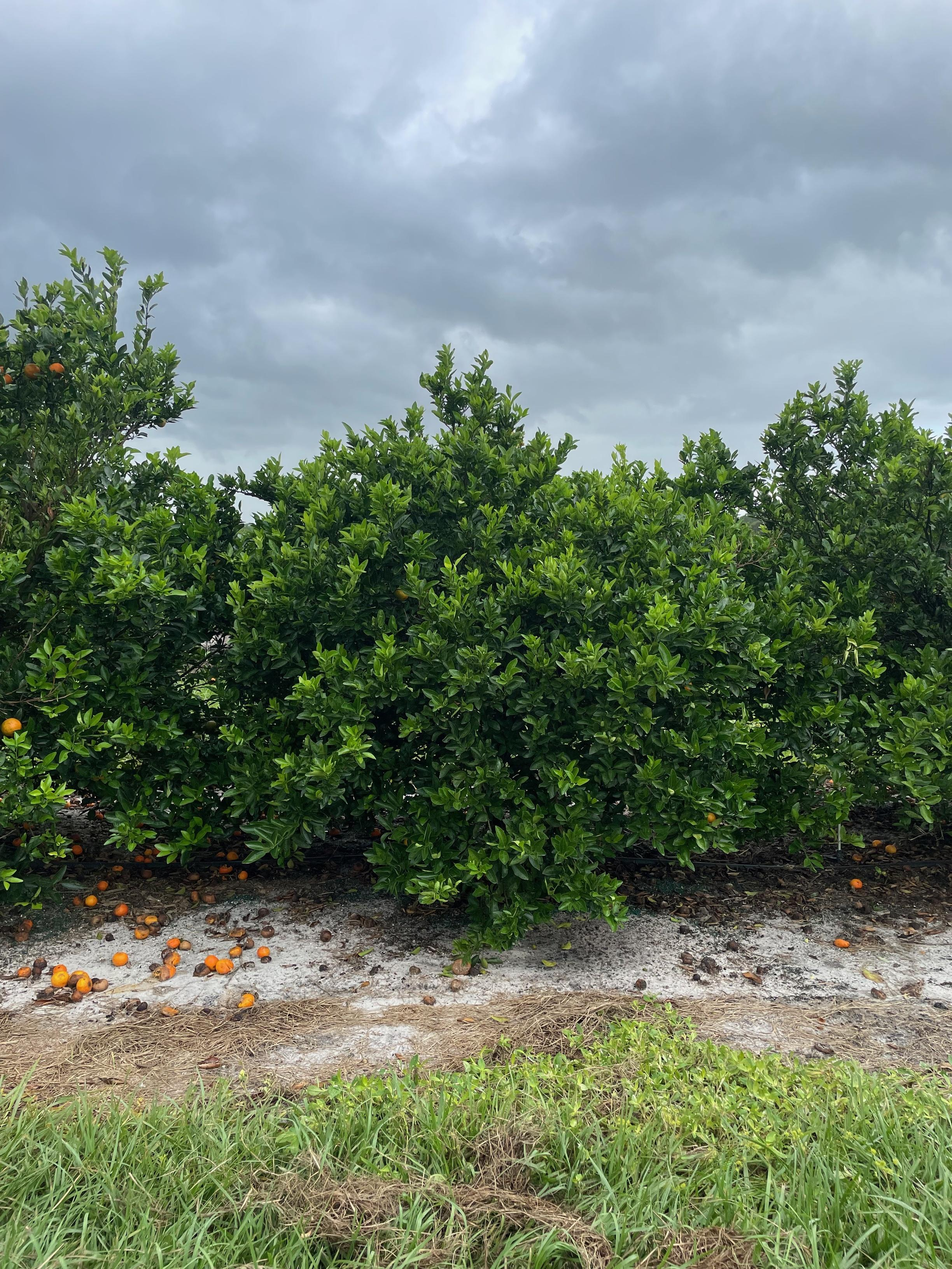fruit_on_ground: (0, 715, 23, 739), (392, 583, 412, 602), (23, 361, 42, 381), (47, 359, 66, 376), (0, 371, 15, 387), (703, 811, 718, 825), (204, 718, 218, 732)
fruit_on_tree: (68, 968, 91, 988), (50, 968, 70, 991), (450, 957, 472, 976), (75, 976, 93, 995), (237, 991, 256, 1009), (152, 966, 172, 982), (162, 951, 181, 967), (91, 977, 109, 993), (216, 959, 234, 974), (203, 953, 220, 968), (113, 901, 130, 916), (112, 951, 129, 966), (50, 963, 69, 976), (133, 925, 149, 940), (13, 930, 30, 944), (28, 963, 44, 977), (834, 935, 850, 949), (318, 928, 333, 942), (16, 965, 32, 978), (70, 989, 85, 1002), (256, 945, 271, 958), (32, 957, 48, 969), (21, 916, 35, 929), (327, 825, 341, 838), (849, 876, 863, 889), (84, 893, 98, 906), (144, 914, 159, 926), (163, 964, 176, 977), (96, 878, 109, 891), (369, 826, 383, 838), (70, 843, 84, 855), (166, 936, 180, 948), (884, 842, 898, 854), (11, 835, 24, 847), (243, 937, 256, 949), (229, 945, 242, 957), (237, 869, 250, 881), (180, 937, 192, 950), (21, 820, 35, 831), (259, 926, 273, 937), (231, 927, 245, 938), (189, 889, 201, 901), (227, 848, 239, 860), (851, 851, 864, 862), (202, 892, 215, 903), (187, 871, 199, 882), (870, 837, 882, 848), (215, 851, 228, 861), (218, 866, 231, 876), (142, 855, 154, 865), (71, 895, 83, 905), (142, 869, 154, 879), (142, 847, 154, 857), (233, 827, 244, 837), (133, 854, 145, 863), (112, 863, 123, 872), (94, 812, 105, 821)
